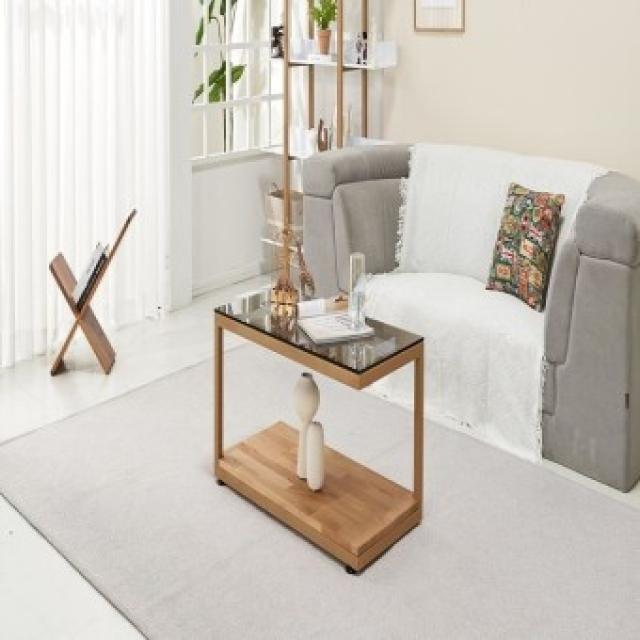Sofa: (308, 142, 637, 486)
Table: (204, 285, 432, 573)
